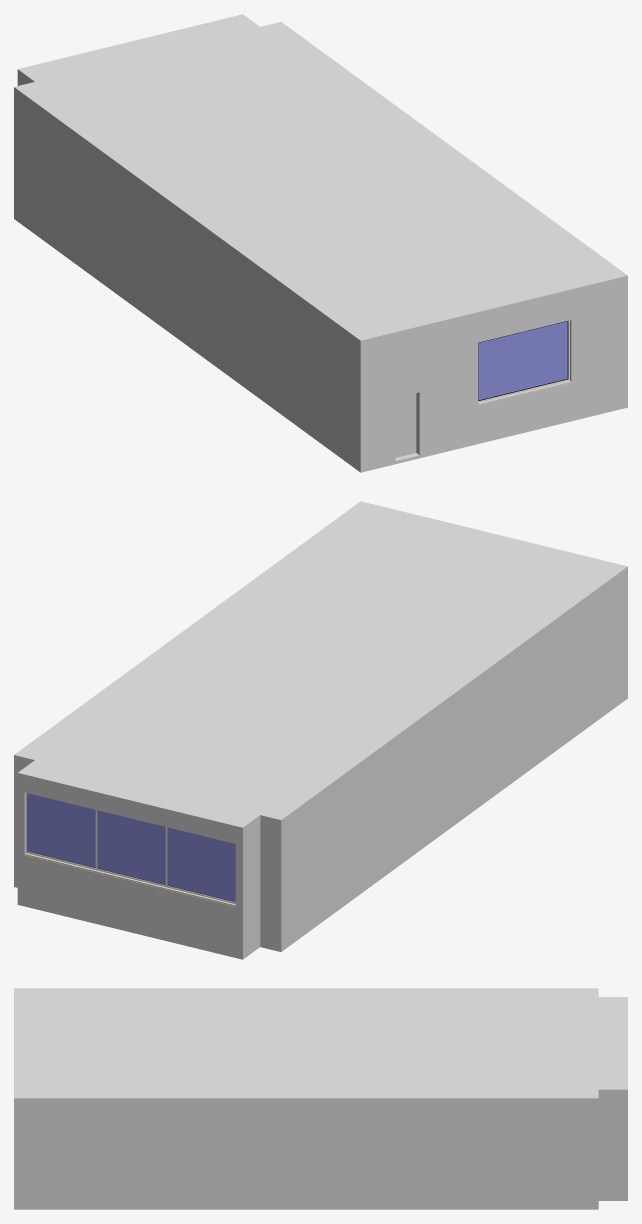
Rendered from Laboratory.fbx.
3 views of the same model, one above another, from view 1: azimuth 30°, elevation 25°; view 2: azimuth 150°, elevation 25°; view 3: azimuth 270°, elevation 25° (orthographic). The views are drawn at different scales.
Visible parts, largest first — view 1: Teto, Wall, Window.001, Piso, Panel.001, Door; view 2: Teto, Wall, Window, Piso; view 3: Teto, Wall, Piso.
Boxes of the visible parts, x1=… form: Teto: x1=14, y1=14, x2=627, y2=343; Wall: x1=14, y1=72, x2=627, y2=469; Window.001: x1=478, y1=320, x2=571, y2=405; Piso: x1=14, y1=216, x2=627, y2=472; Panel.001: x1=395, y1=393, x2=416, y2=457; Door: x1=392, y1=388, x2=422, y2=461; Teto: x1=14, y1=501, x2=627, y2=830; Wall: x1=14, y1=570, x2=627, y2=956; Window: x1=25, y1=793, x2=235, y2=906; Piso: x1=14, y1=695, x2=627, y2=959; Teto: x1=14, y1=988, x2=627, y2=1100; Wall: x1=14, y1=1092, x2=627, y2=1206; Piso: x1=14, y1=1198, x2=627, y2=1209.
Size of the model in its own units: 890 by 420 by 2100.
